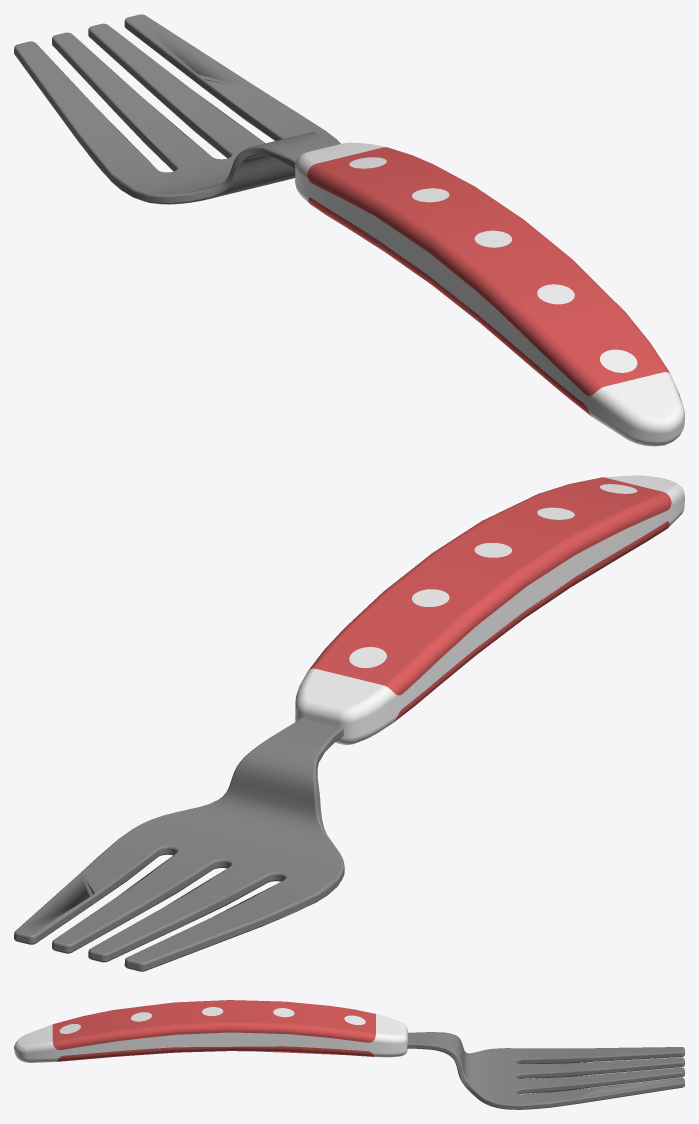
3 views of the same model, one above another, from view 1: azimuth 30°, elevation 25°; view 2: azimuth 150°, elevation 25°; view 3: azimuth 270°, elevation 25° (orthographic). The views are drawn at different scales.
Parts seen in each view (by area): view 1: Fork_2118_6-3, Fork_2118_6-9, Fork_2118_6-12, Fork_2118_6-10, Fork_2118_6-6; view 2: Fork_2118_6-3, Fork_2118_6-9, Fork_2118_6-12, Fork_2118_6-10; view 3: Fork_2118_6-3, Fork_2118_6-9, Fork_2118_6-12, Fork_2118_6-10.
Boxes of the visible parts, box(x1,y1,x2,y2) form: Fork_2118_6-3: box(14, 14, 340, 204); Fork_2118_6-9: box(307, 147, 670, 395); Fork_2118_6-12: box(295, 142, 684, 446); Fork_2118_6-10: box(308, 197, 591, 416); Fork_2118_6-6: box(600, 349, 637, 372); Fork_2118_6-3: box(14, 717, 344, 971); Fork_2118_6-9: box(309, 477, 671, 695); Fork_2118_6-12: box(295, 475, 684, 744); Fork_2118_6-10: box(394, 521, 669, 721); Fork_2118_6-3: box(407, 1032, 684, 1109); Fork_2118_6-9: box(52, 1000, 375, 1049); Fork_2118_6-12: box(14, 1014, 407, 1062); Fork_2118_6-10: box(57, 1046, 373, 1061).
Bounding box in the file's own units: 0.1731 × 0.0987 × 0.8517.
